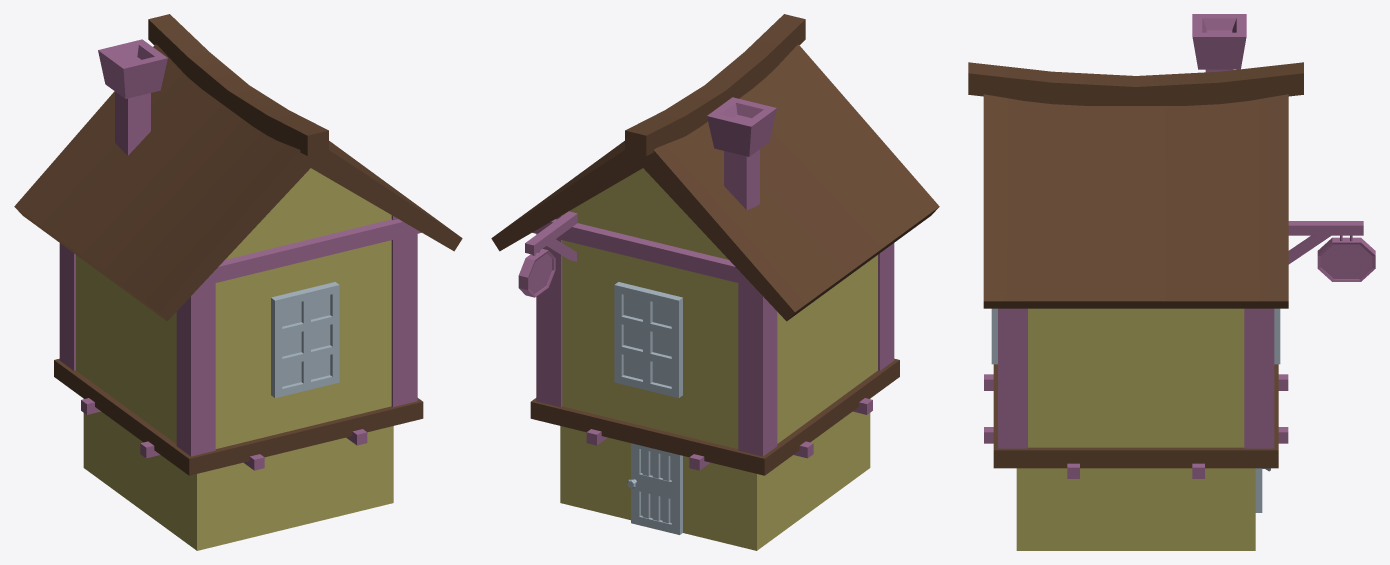
The model's file is CasaEpocaMedieval.fbx.
3 views of the same model, side by side, from view 1: azimuth 30°, elevation 25°; view 2: azimuth 150°, elevation 25°; view 3: azimuth 270°, elevation 25° (orthographic). The views are drawn at different scales.
Parts seen in each view (by area): view 1: polySurface21, polySurface23, polySurface17, polySurface10; view 2: polySurface21, polySurface23, polySurface17, polySurface10; view 3: polySurface23, polySurface21, polySurface17, polySurface10.
Part boxes in pixels (box(x1,y1,x2,y2)): polySurface21: box(76, 168, 393, 550); polySurface23: box(14, 14, 462, 475); polySurface17: box(59, 39, 421, 470); polySurface10: box(271, 282, 339, 398); polySurface21: box(560, 168, 877, 550); polySurface23: box(491, 14, 939, 475); polySurface17: box(518, 97, 894, 470); polySurface10: box(614, 282, 682, 534); polySurface23: box(968, 62, 1303, 468); polySurface21: box(1016, 308, 1255, 550); polySurface17: box(984, 14, 1375, 478); polySurface10: box(991, 308, 1280, 512).
Size of the model in its own units: 8.23 by 10.84 by 9.07.
